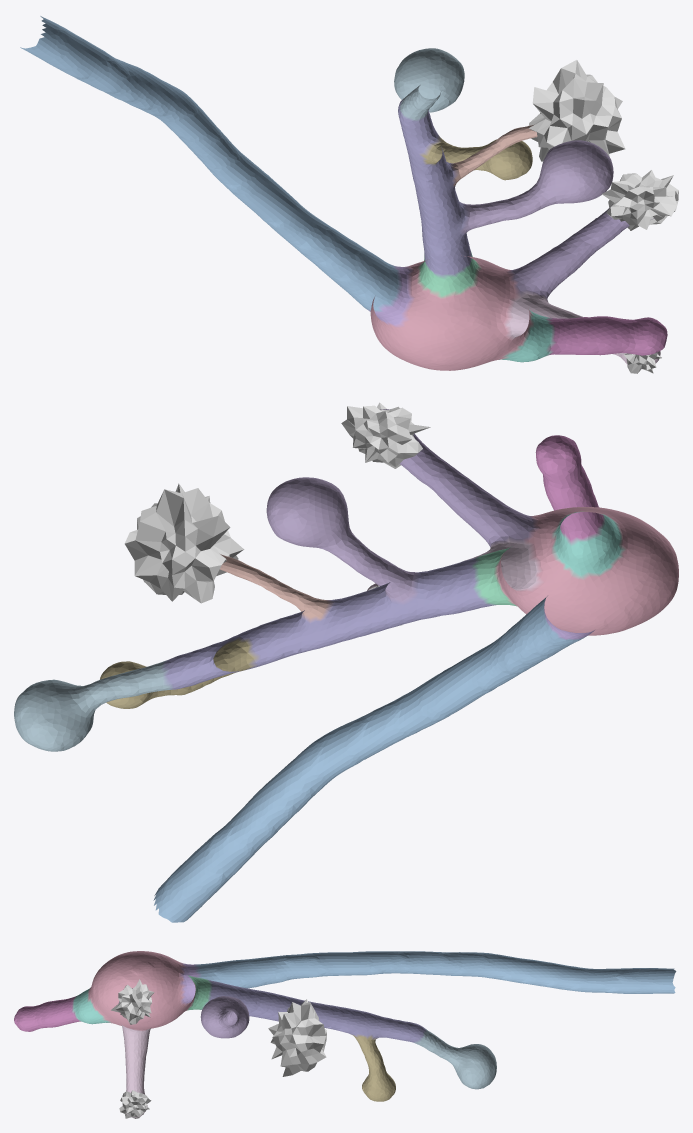
File: scene_inside_with_stones.glb
The picture shows the model from 3 angles, top to bottom: view 1: azimuth 30°, elevation 25°; view 2: azimuth 150°, elevation 25°; view 3: azimuth 270°, elevation 25°; orthographic projection. The views are drawn at different scales.
Parts seen in each view (by area): view 1: lumen_inner, stone_000, stone_001, stone_002; view 2: lumen_inner, stone_000, stone_001; view 3: lumen_inner, stone_000, stone_001, stone_002.
Boxes of the visible parts, x1,y1,x2,y2 form: lumen_inner: (20,16,667,370); stone_000: (528,60,625,161); stone_001: (602,170,678,230); stone_002: (623,352,661,373); lumen_inner: (14,409,678,922); stone_000: (124,483,243,603); stone_001: (341,402,430,468); lumen_inner: (14,951,676,1117); stone_000: (268,999,326,1076); stone_001: (111,979,154,1024); stone_002: (119,1090,151,1118).
Size of the model in its own units: 52.31 by 27.99 by 125.
